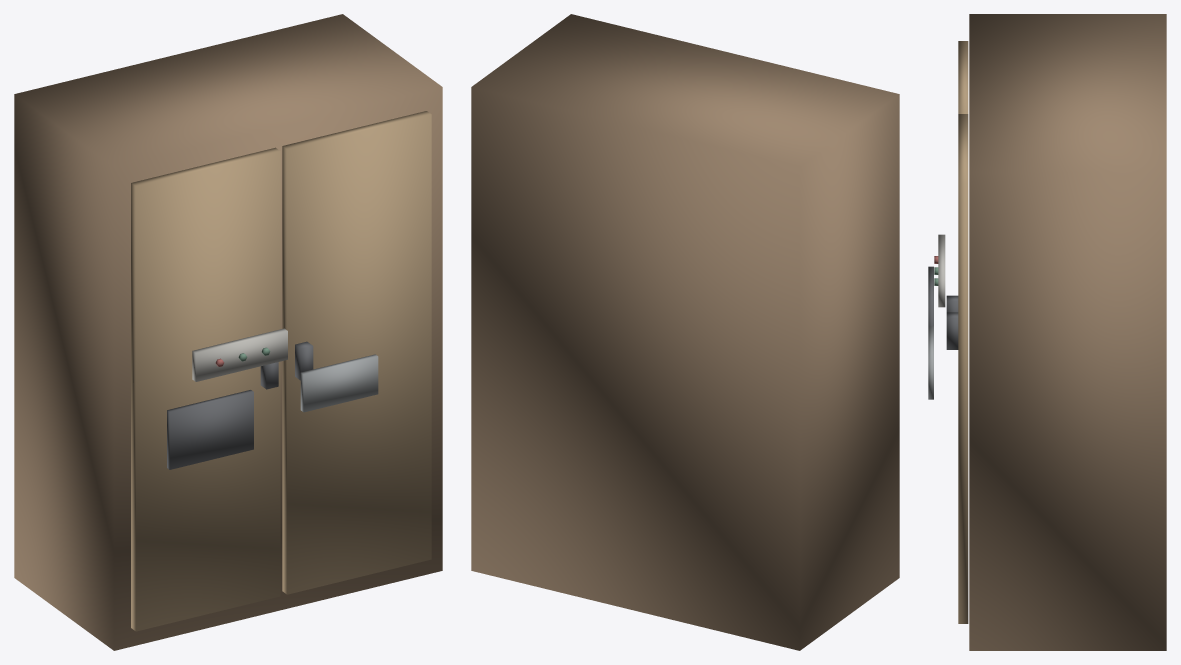
File: lab_reagent_cabinet__weathered.glb
3 renders of one model, left to right at view 1: azimuth 30°, elevation 25°; view 2: azimuth 150°, elevation 25°; view 3: azimuth 270°, elevation 25°, orthographic.
Visible parts, largest first — view 1: world; view 2: world; view 3: world.
Boxes of the visible parts, bbox=[...] form: world: bbox=[14, 14, 442, 650]; world: bbox=[471, 14, 899, 650]; world: bbox=[928, 14, 1166, 650].
Bounding box in the file's own units: 0.95 × 1.34 × 0.6041.
